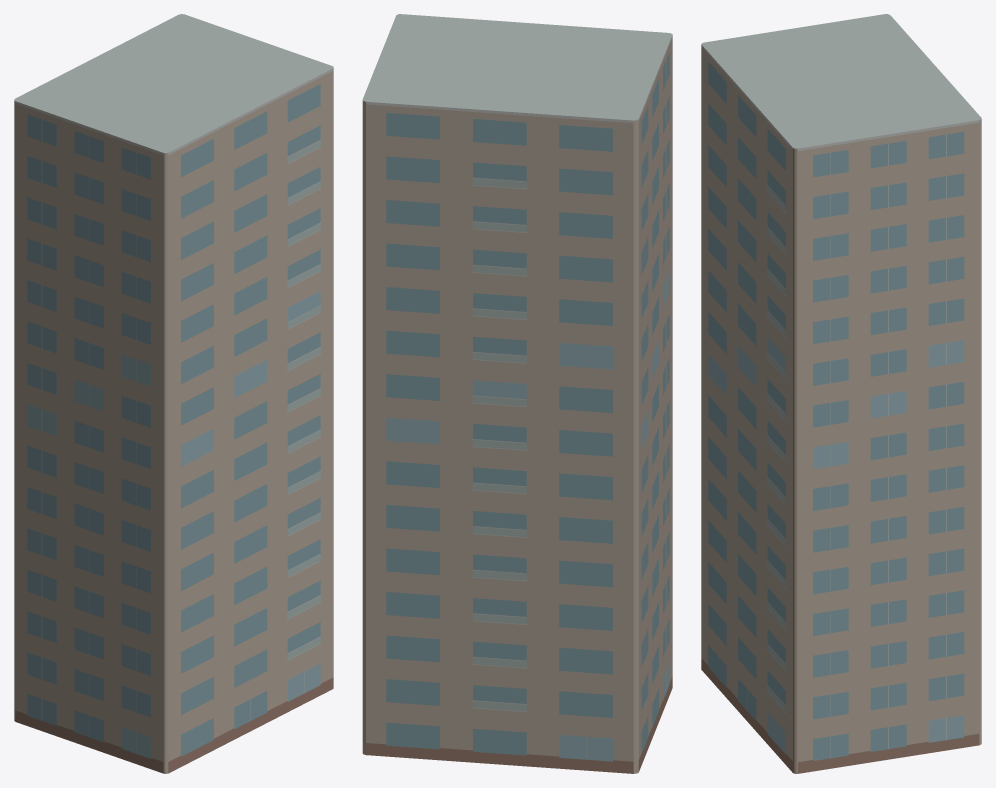
Rendered from survey-upis-32862546.glb.
3 renders of one model, left to right at view 1: azimuth 30°, elevation 25°; view 2: azimuth 150°, elevation 25°; view 3: azimuth 270°, elevation 25°, orthographic. The views are drawn at different scales.
Parts seen in each view (by area): view 1: survey-upis-32862546.tmp; view 2: survey-upis-32862546.tmp; view 3: survey-upis-32862546.tmp.
Part boxes in pixels (<box>): survey-upis-32862546.tmp: <box>14,14,333,773</box>; survey-upis-32862546.tmp: <box>362,14,672,773</box>; survey-upis-32862546.tmp: <box>701,14,981,773</box>.
Size of the model in its own units: 27.3 by 59.1 by 24.02.
